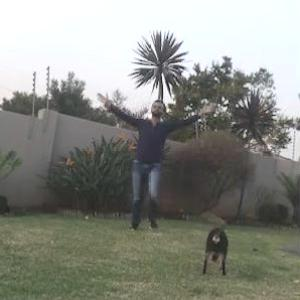takeoff: (109, 94, 224, 230)
